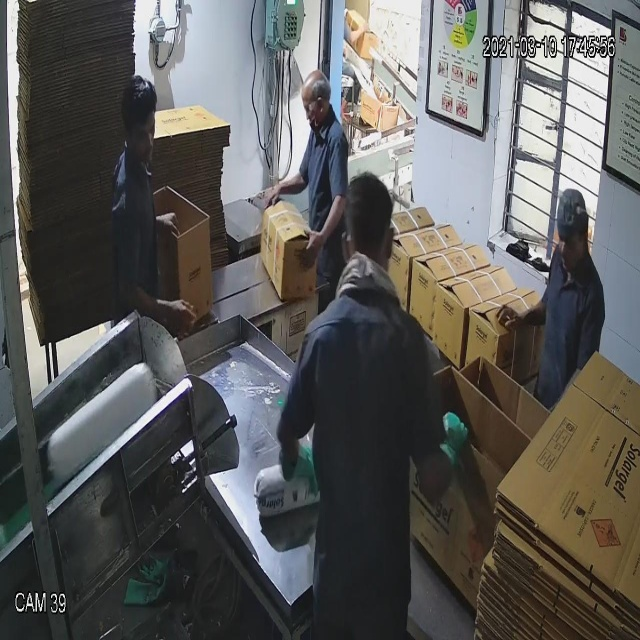Sin_guantes: (106, 244, 200, 348), (301, 182, 356, 265), (261, 151, 317, 220), (487, 287, 552, 346)
